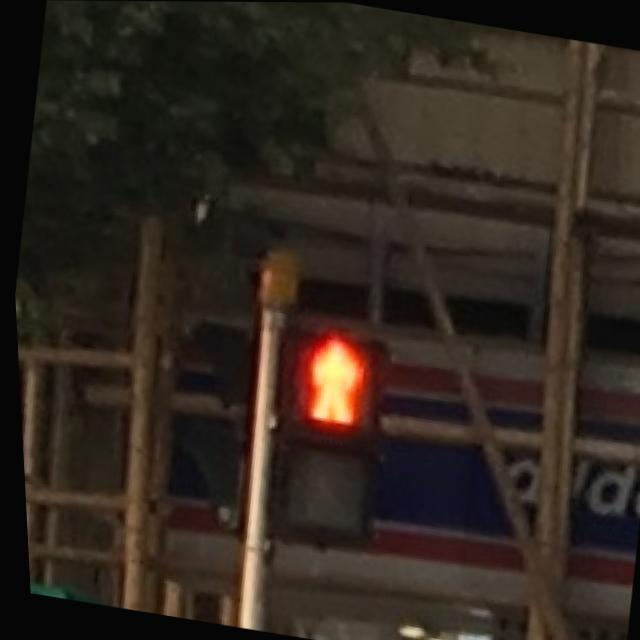red_light: (281, 321, 376, 433)
